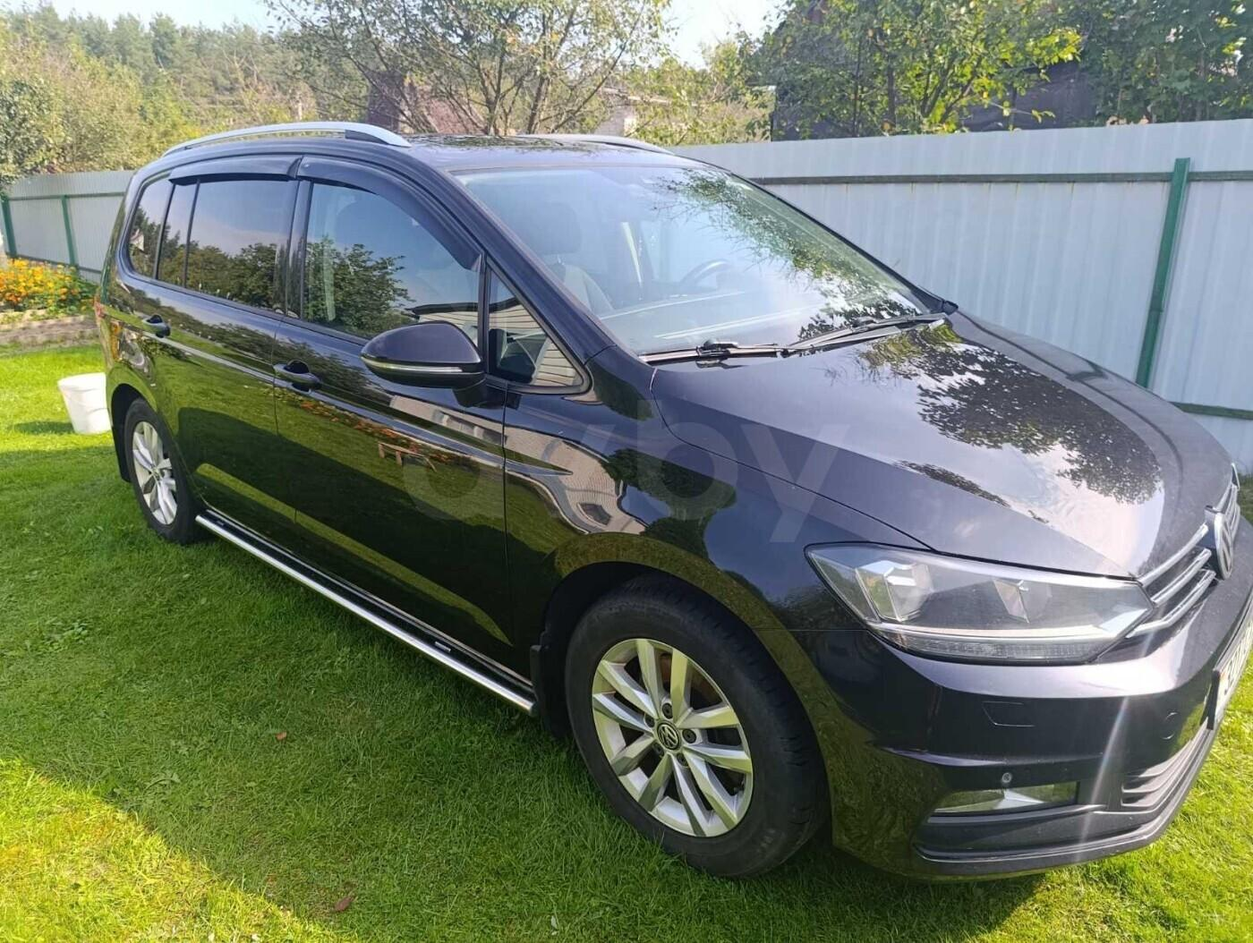Touran_2015: (88, 126, 1253, 881)
